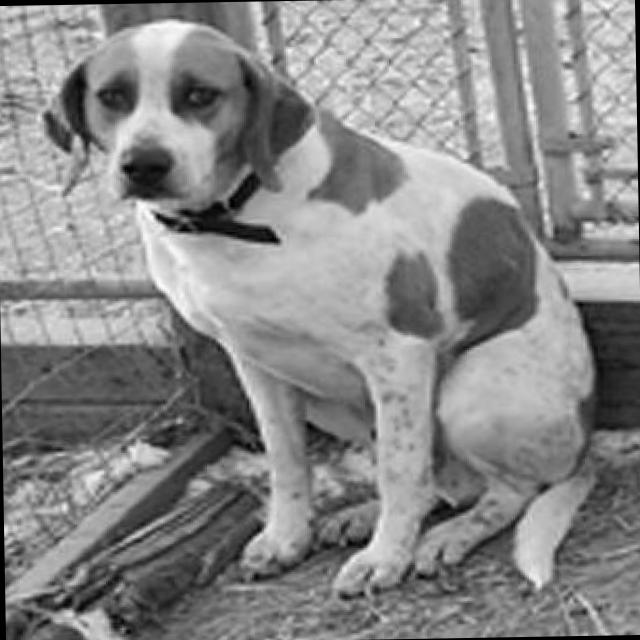sitting: (30, 7, 618, 607)
